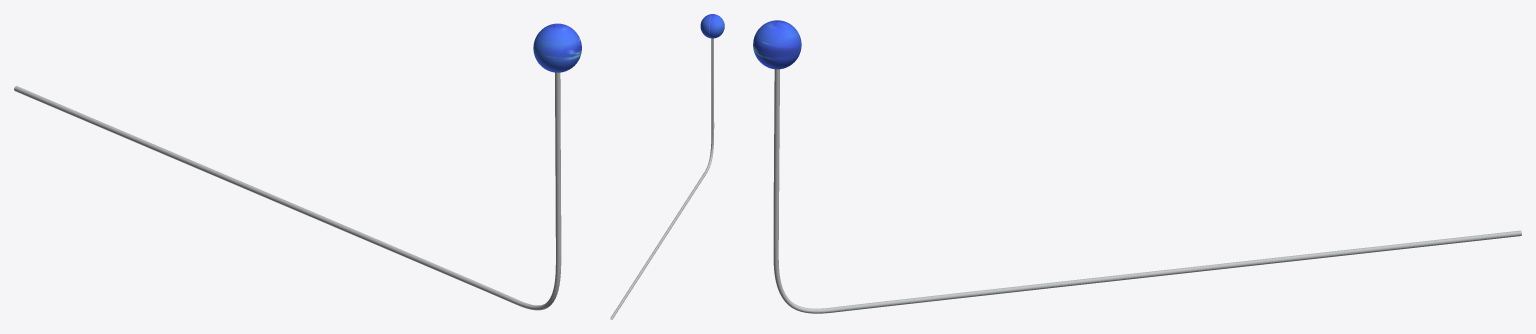
File: orrery_planeta1.glb
3 views of the same model, side by side, from view 1: azimuth 30°, elevation 25°; view 2: azimuth 150°, elevation 25°; view 3: azimuth 270°, elevation 25° (orthographic). The views are drawn at different scales.
Parts seen in each view (by area): view 1: polySurface2_modelUniverseMaterial_0; view 2: polySurface2_modelUniverseMaterial_0; view 3: polySurface2_modelUniverseMaterial_0.
Part boxes in pixels (left/top/right/bottom): polySurface2_modelUniverseMaterial_0: left=14, top=23, right=581, bottom=310; polySurface2_modelUniverseMaterial_0: left=610, top=14, right=724, bottom=319; polySurface2_modelUniverseMaterial_0: left=753, top=20, right=1521, bottom=313.
Size of the model in its own units: 0.1206 by 0.1767 by 0.4159.
Materials: 1 (1 with a texture image).
